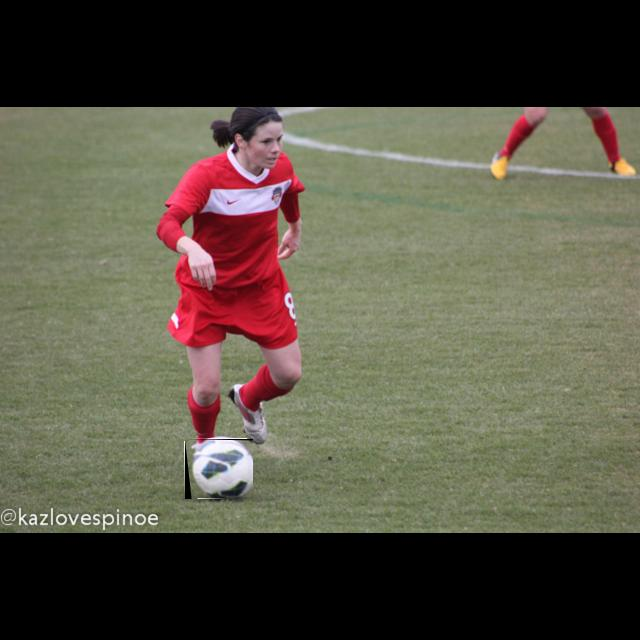Football: (185, 439, 253, 499)
